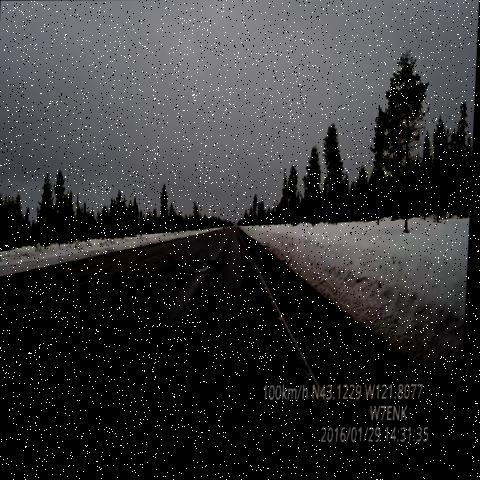pothole: (183, 257, 220, 287)
